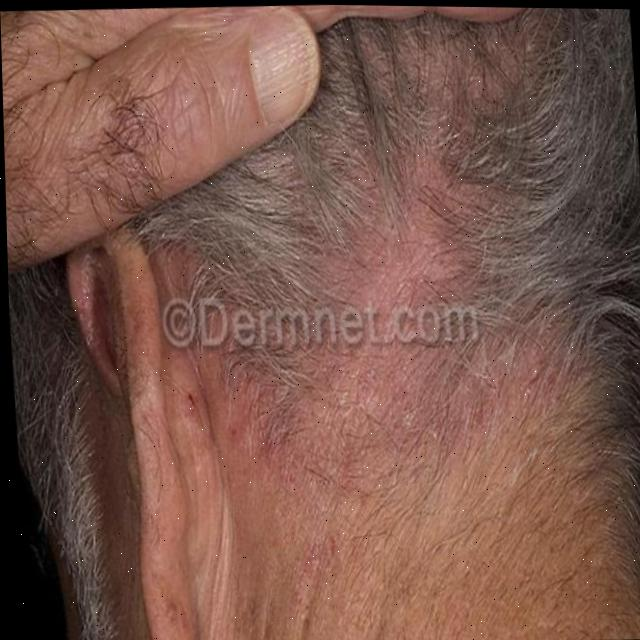Eczema: (195, 246, 507, 460)
